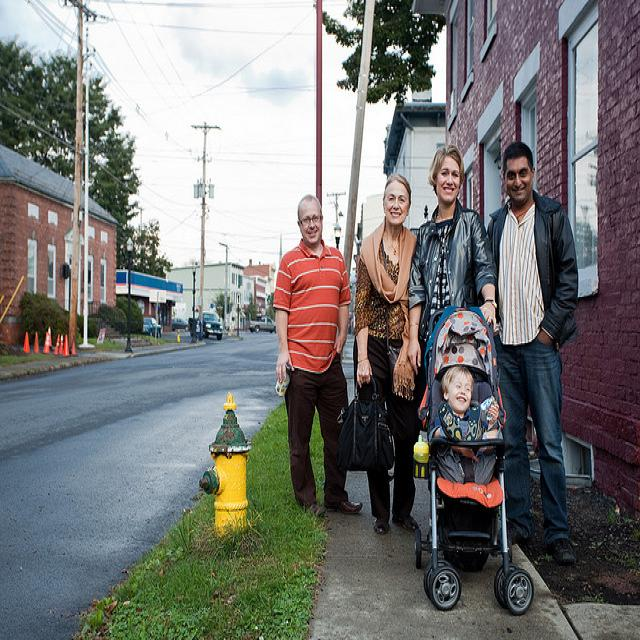Vehicle: (188, 310, 224, 340), (249, 317, 276, 333), (142, 317, 162, 337), (172, 318, 190, 331)
